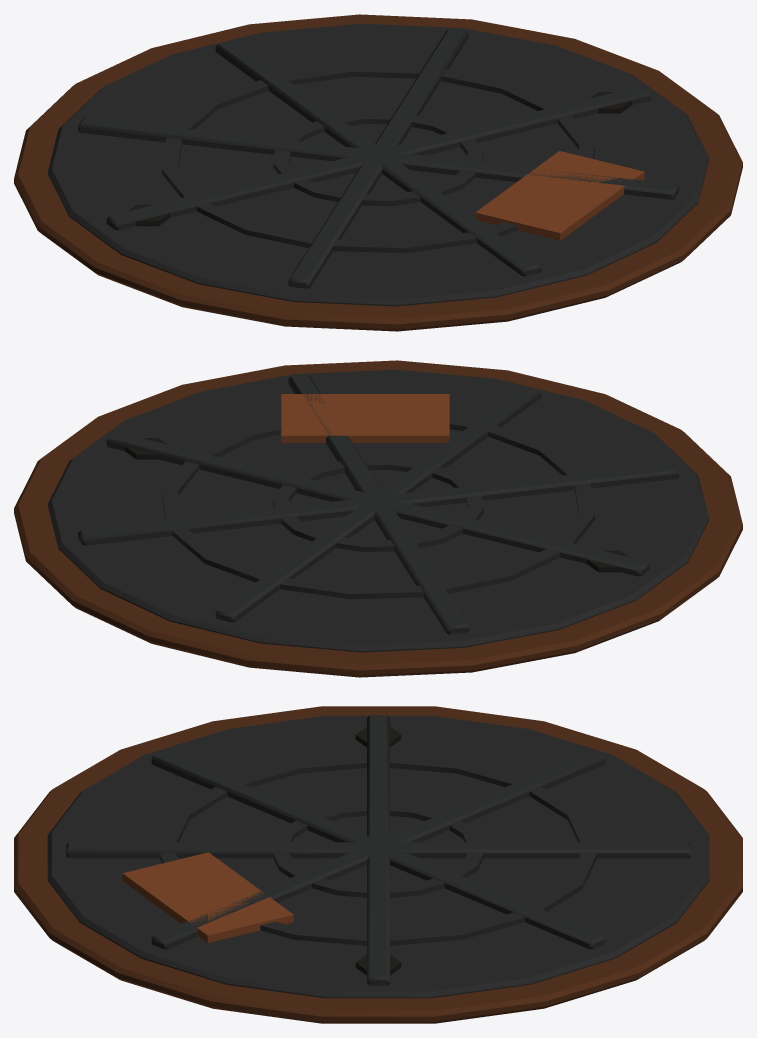
The model's file is 08_plaque_egout.fbx.
3 renders of one model, top to bottom at view 1: azimuth 30°, elevation 25°; view 2: azimuth 150°, elevation 25°; view 3: azimuth 270°, elevation 25°, orthographic.
Visible parts, largest first — view 1: Plaque; view 2: Plaque; view 3: Plaque.
Part boxes in pixels (left/top/right/bottom): Plaque: left=14, top=14, right=742, bottom=331; Plaque: left=14, top=360, right=742, bottom=677; Plaque: left=14, top=706, right=742, bottom=1023.
Bounding box in the file's own units: 0.728 × 0.028 × 0.728.
1 material, 1 textured.
